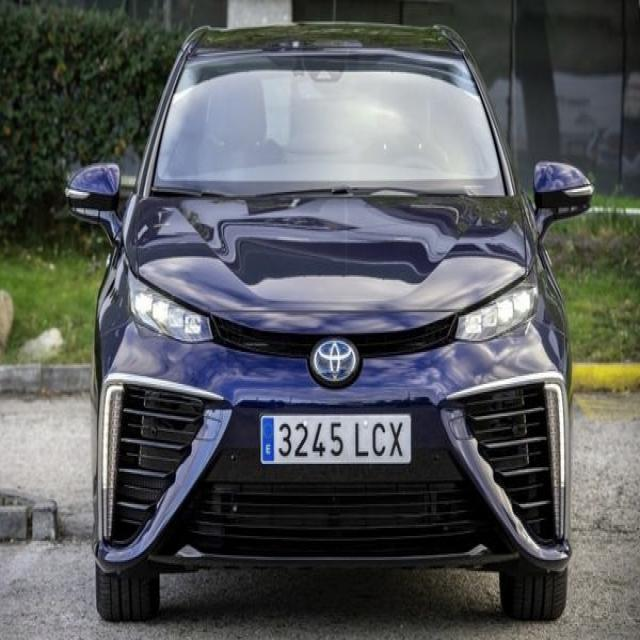football: (260, 413, 412, 465)
